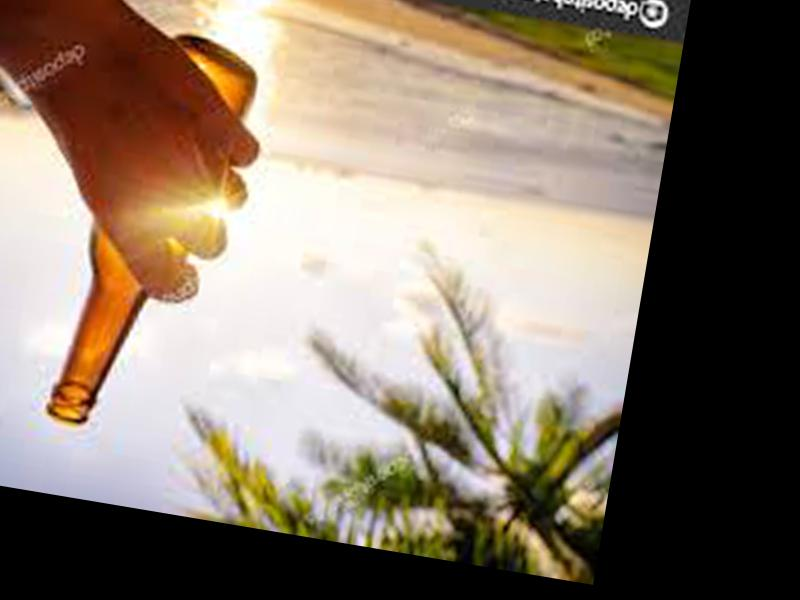Beer: (43, 21, 262, 445)
